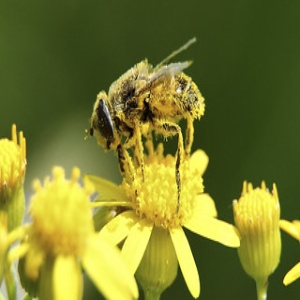bee: (85, 35, 213, 216)
